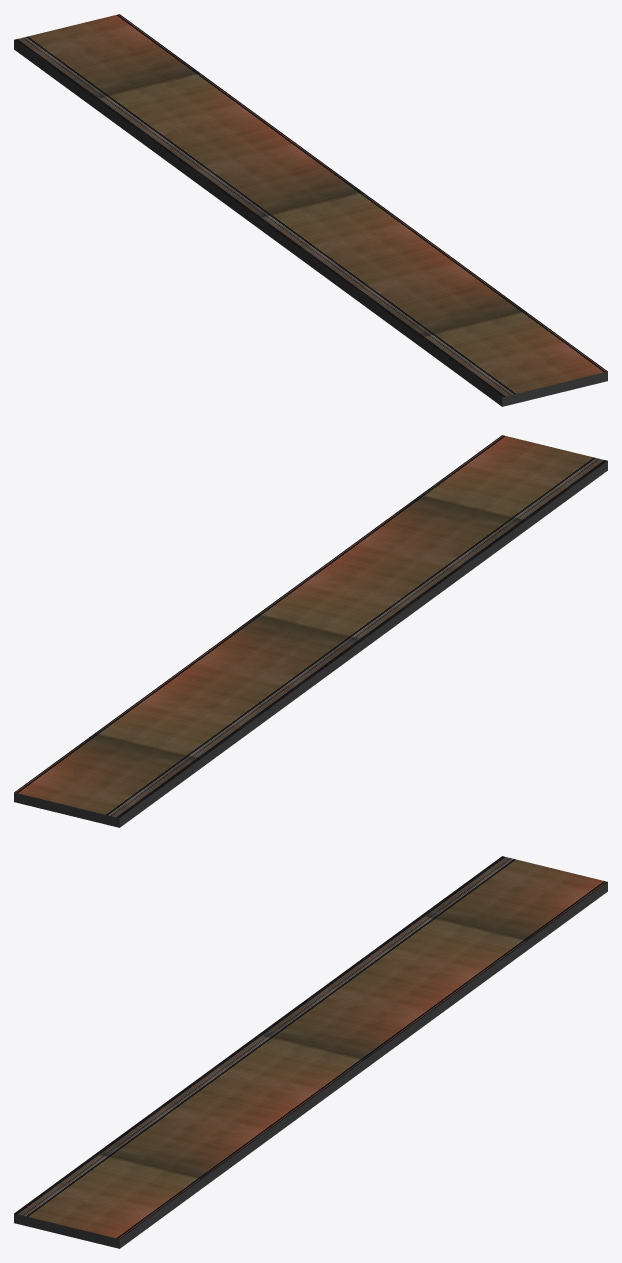
File: exterior floor strip.FBX
The picture shows the model from 3 angles, top to bottom: view 1: azimuth 30°, elevation 25°; view 2: azimuth 150°, elevation 25°; view 3: azimuth 330°, elevation 25°; orthographic projection.
Parts seen in each view (by area): view 1: floor side strip 03, short base02; view 2: floor side strip 03, short base02; view 3: floor side strip 03, short base02.
Boxes of the visible parts, bbox=[...] form: floor side strip 03: bbox=[14, 14, 607, 397]; short base02: bbox=[14, 40, 607, 406]; floor side strip 03: bbox=[14, 435, 607, 818]; short base02: bbox=[14, 461, 607, 827]; floor side strip 03: bbox=[14, 856, 607, 1239]; short base02: bbox=[14, 882, 607, 1248].
Bounding box in the file's own units: 70.87 × 6.19 × 567.
Materials: 2 (2 with a texture image).
